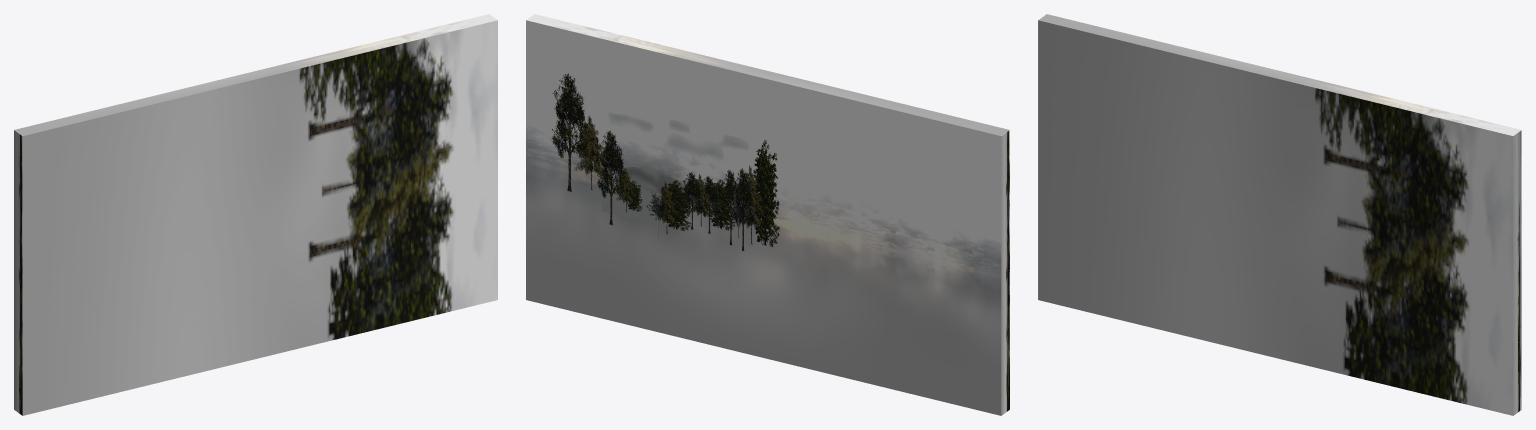
Rendered from PlaneExport2.obj.
3 renders of one model, left to right at view 1: azimuth 30°, elevation 25°; view 2: azimuth 150°, elevation 25°; view 3: azimuth 330°, elevation 25°, orthographic.
Visible parts, largest first — view 1: Cube; view 2: Cube; view 3: Cube.
Part boxes in pixels (left/top/right/bottom): Cube: left=14, top=14, right=497, bottom=415; Cube: left=526, top=14, right=1009, bottom=415; Cube: left=1038, top=14, right=1521, bottom=415.
Bounding box in the file's own units: 3.2 × 1.8 × 0.1.
